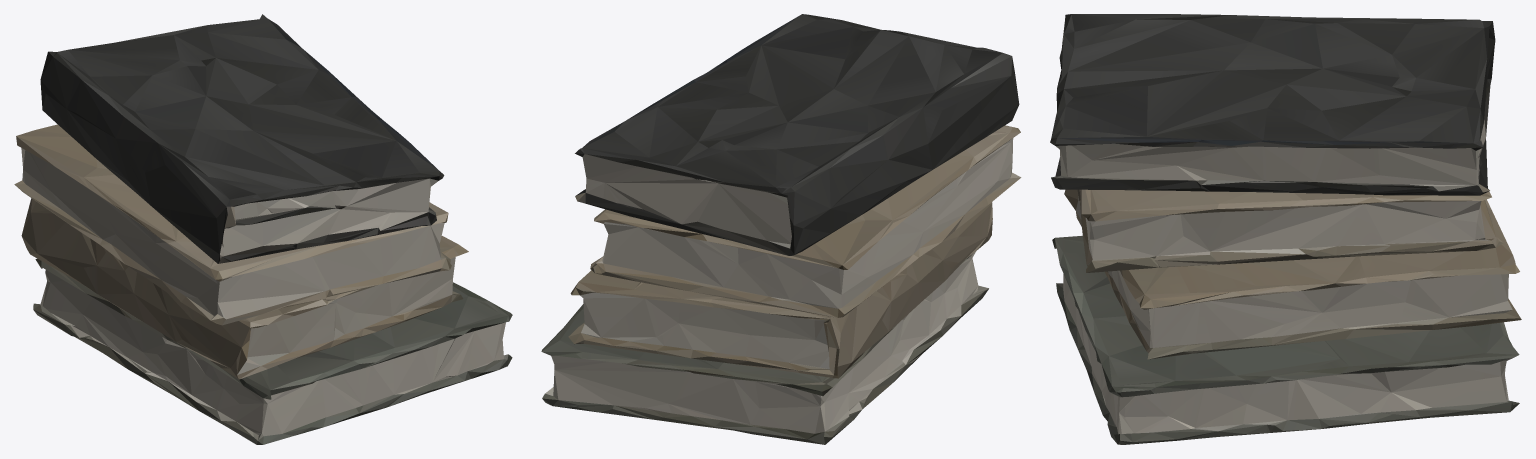
The model's file is books-lo.glb.
3 views of the same model, side by side, from view 1: azimuth 30°, elevation 25°; view 2: azimuth 150°, elevation 25°; view 3: azimuth 270°, elevation 25° (orthographic). The views are drawn at different scales.
Parts seen in each view (by area): view 1: geometry_0; view 2: geometry_0; view 3: geometry_0.
Boxes of the visible parts, x1,y1,x2,y2 form: geometry_0: (14,14,512,444); geometry_0: (541,14,1021,444); geometry_0: (1050,14,1521,444).
Size of the model in its own units: 0.8615 by 0.6357 by 0.9778.
Materials: 1 (1 with a texture image).
